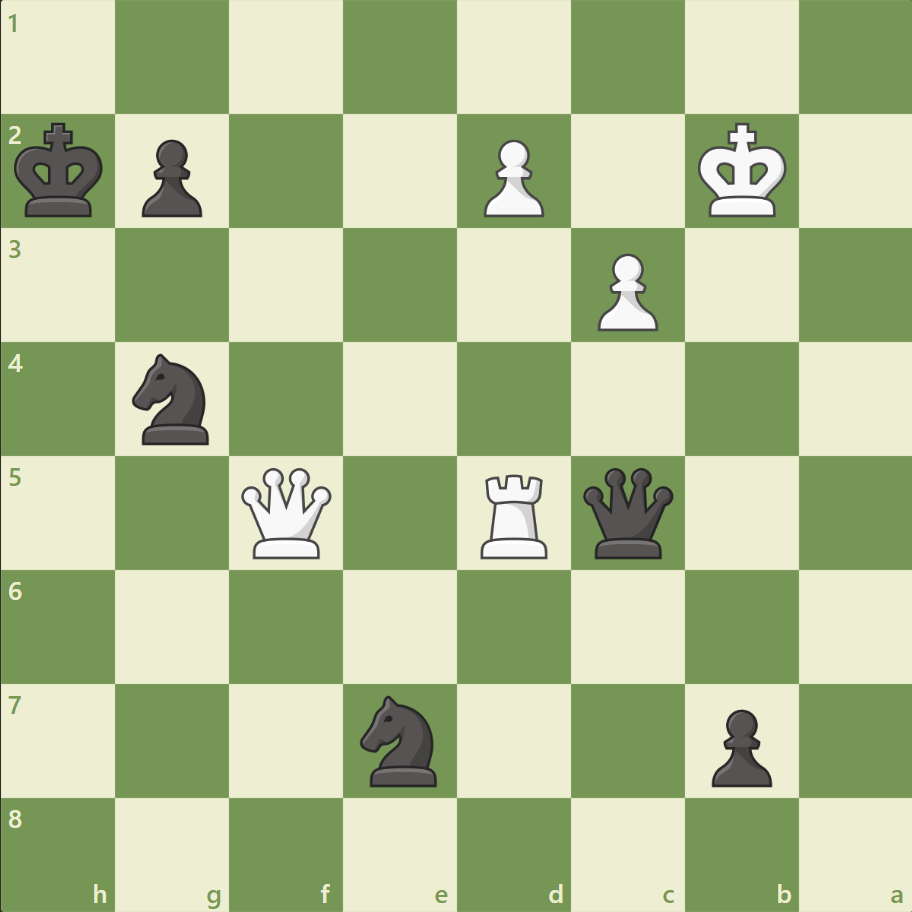K: (692, 117, 792, 225)
P: (474, 132, 549, 223), (588, 246, 662, 337)
Q: (237, 463, 336, 562)
R: (473, 466, 556, 563)
k: (11, 117, 111, 225)
n: (351, 688, 449, 791), (124, 348, 222, 450)
p: (701, 700, 776, 791), (133, 132, 208, 223)
q: (578, 463, 677, 562)
